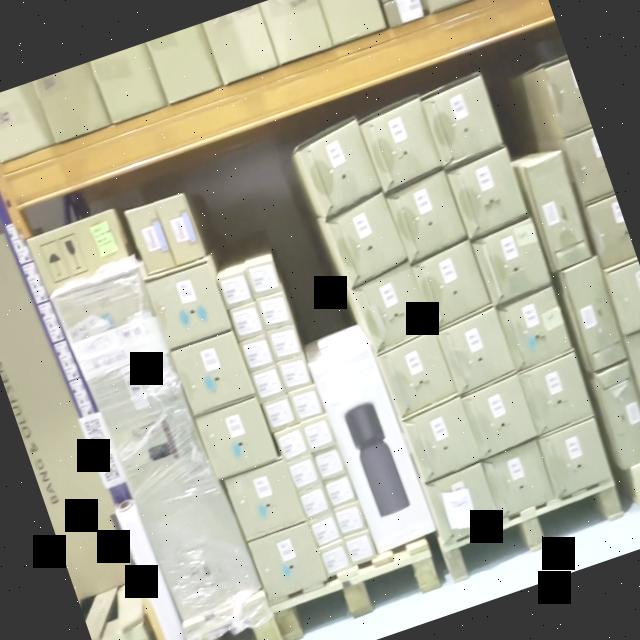box: (57, 264, 263, 623), (312, 343, 438, 553), (26, 208, 130, 288), (300, 121, 375, 218), (195, 395, 278, 480), (327, 189, 402, 282), (148, 262, 230, 347), (172, 332, 255, 414), (526, 159, 590, 264), (564, 264, 626, 366), (448, 156, 526, 236), (426, 80, 502, 162), (402, 400, 479, 480), (226, 463, 305, 540), (362, 109, 442, 185), (522, 356, 596, 436), (475, 225, 551, 302), (498, 291, 574, 368), (252, 524, 328, 600), (391, 182, 466, 258), (463, 382, 538, 458), (414, 245, 488, 322), (381, 335, 454, 410), (439, 315, 512, 387), (356, 273, 428, 345), (539, 422, 611, 494), (428, 468, 498, 536), (485, 443, 552, 512), (596, 366, 640, 464), (158, 196, 203, 266), (129, 205, 172, 273), (247, 260, 282, 299), (267, 323, 302, 362), (228, 302, 263, 340), (274, 426, 312, 461), (256, 292, 291, 328), (251, 364, 285, 400), (313, 445, 347, 481), (263, 396, 297, 430), (278, 356, 312, 390), (241, 334, 274, 369), (290, 387, 324, 420), (319, 540, 352, 574), (302, 416, 334, 450), (344, 530, 376, 564), (335, 502, 366, 536), (220, 270, 250, 304), (288, 456, 319, 488), (298, 483, 329, 515), (310, 515, 340, 545), (325, 475, 354, 505)
